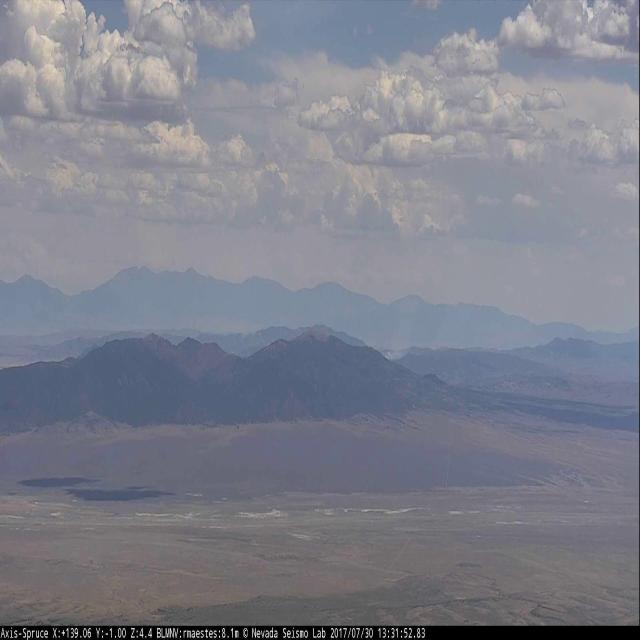smoke: (384, 280, 421, 361)
